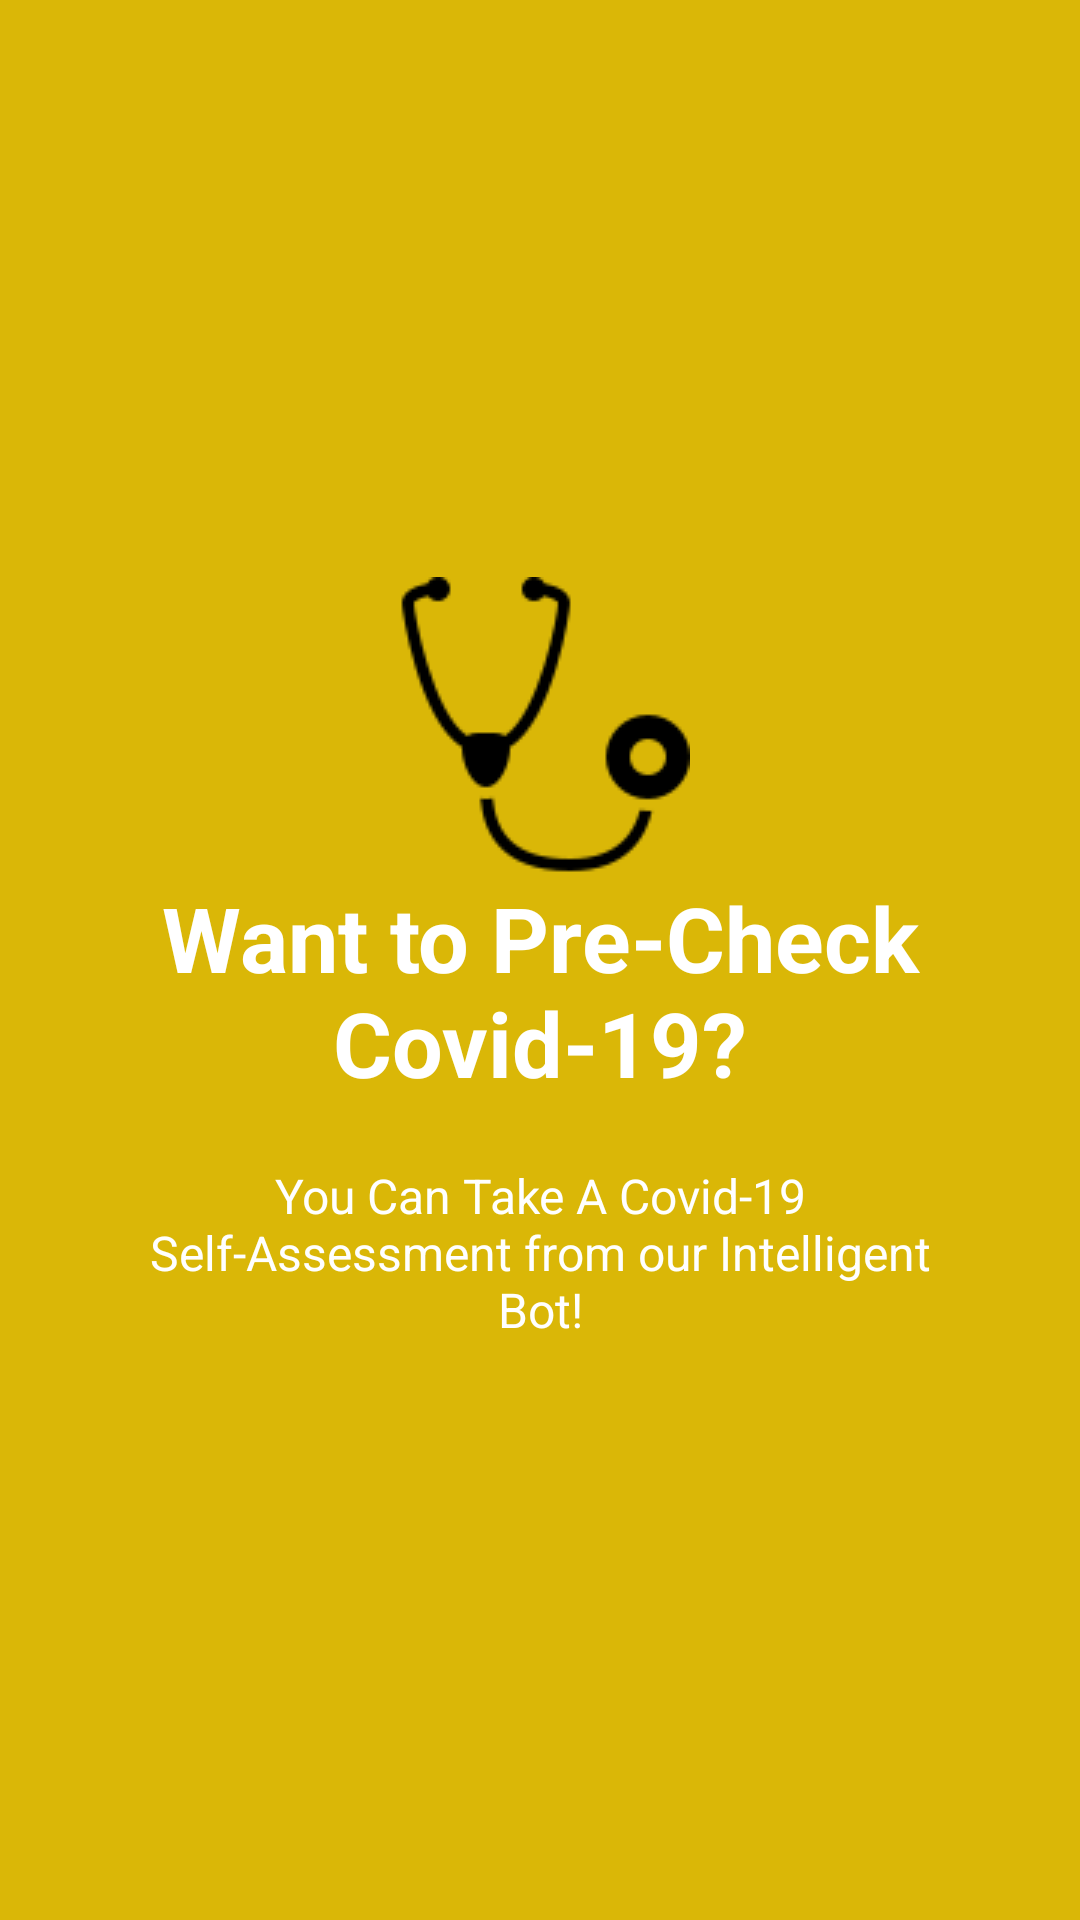

Icon bounding boxes for this 1080*1920 phone screenshot, format region(x1, y1, x2, y2):
sthe: region(401, 577, 690, 872)
